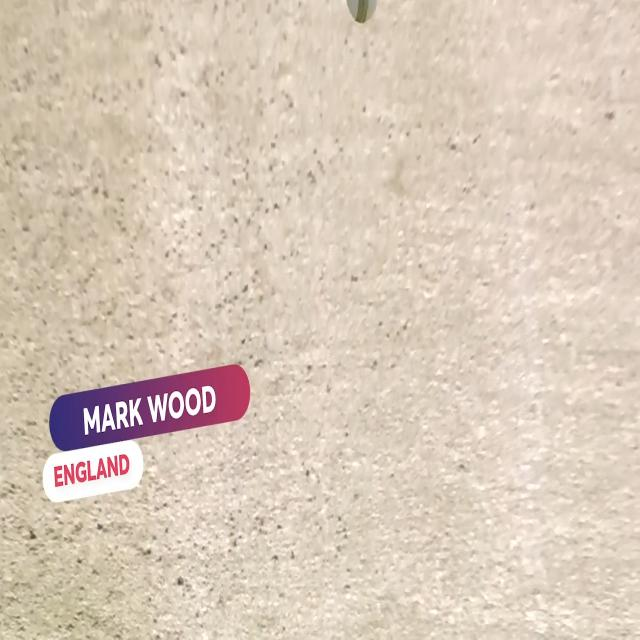ball: (345, 0, 379, 42)
